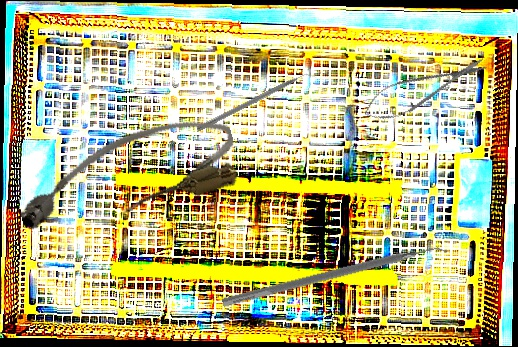Cannula: (7, 106, 246, 245)
Chopper: (196, 68, 318, 138)
Micro Scissor: (358, 46, 492, 131)
Spatula Surgical: (221, 238, 449, 317)
